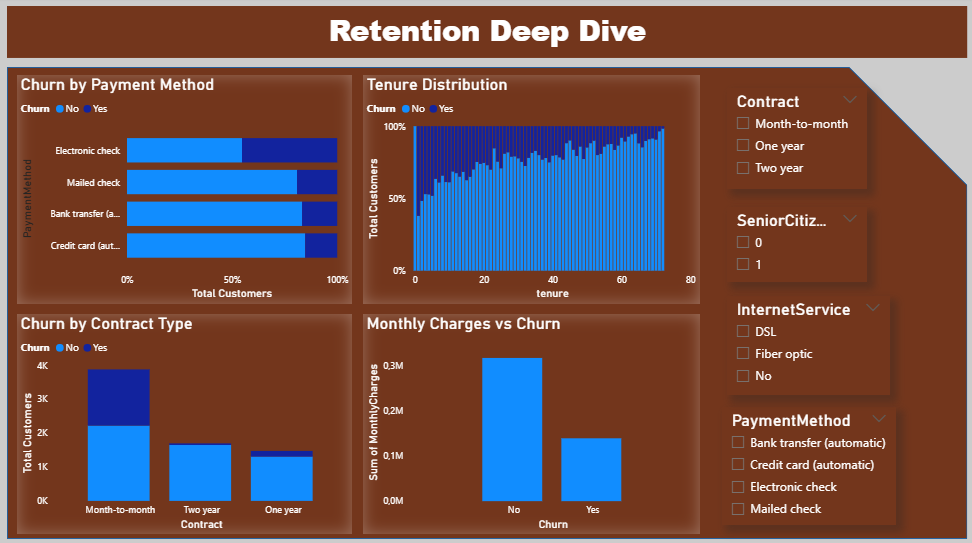

This screenshot's page, from the dashboard's own definition file:
{"tool":"powerbi","page":{"name":"Retention Deep Dive","canvas":[1280,720],"ordinal":1},"visuals":[{"type":"shape","box":[11.5,92.2,1257.1,617.8],"z":0},{"type":"columnChart","title":"Churn by Contract Type","fields":{"Series":["WA_Fn-UseC_-Telco-Customer-Churn.Churn"],"Category":["WA_Fn-UseC_-Telco-Customer-Churn.Contract"],"Y":["WA_Fn-UseC_-Telco-Customer-Churn.Total Customers"]},"box":[24.5,414.7,439.2,288],"z":1000},{"type":"hundredPercentStackedBarChart","title":"Churn by Payment Method","fields":{"Series":["WA_Fn-UseC_-Telco-Customer-Churn.Churn"],"Y":["WA_Fn-UseC_-Telco-Customer-Churn.Total Customers"],"Category":["WA_Fn-UseC_-Telco-Customer-Churn.PaymentMethod"]},"box":[24.5,102.2,439.2,299.5],"z":2000},{"type":"clusteredColumnChart","title":"Monthly Charges vs Churn","fields":{"Y":["Sum(WA_Fn-UseC_-Telco-Customer-Churn.MonthlyCharges)"],"Category":["WA_Fn-UseC_-Telco-Customer-Churn.Churn"]},"box":[478.1,414.7,440.6,288],"z":3000},{"type":"hundredPercentStackedColumnChart","title":"Tenure Distribution","fields":{"Category":["WA_Fn-UseC_-Telco-Customer-Churn.tenure"],"Series":["WA_Fn-UseC_-Telco-Customer-Churn.Churn"],"Y":["WA_Fn-UseC_-Telco-Customer-Churn.Total Customers"]},"box":[478.1,102.2,440.6,299.5],"z":4000},{"type":"slicer","fields":{"Values":["WA_Fn-UseC_-Telco-Customer-Churn.Contract"]},"box":[954.7,119.5,182.9,132.5],"z":5000},{"type":"slicer","fields":{"Values":["WA_Fn-UseC_-Telco-Customer-Churn.InternetService"]},"box":[954.7,391.7,213.1,129.6],"z":6000},{"type":"slicer","fields":{"Values":["WA_Fn-UseC_-Telco-Customer-Churn.SeniorCitizen"]},"box":[954.7,275,182.9,97.9],"z":7000},{"type":"slicer","fields":{"Values":["WA_Fn-UseC_-Telco-Customer-Churn.PaymentMethod"]},"box":[947.5,537.1,227.5,154.1],"z":8000},{"type":"textbox","box":[11.5,11.5,1257.1,67.7],"z":9000}]}

Visuals, with their boxes in screenshot pixels (x1, y1, x2, y2), scaled from the page's 1280x720 canvas onto the 972x543 screenshot:
shape: 9, 70, 963, 535
"Churn by Contract Type" columnChart: 19, 313, 352, 530
"Churn by Payment Method" hundredPercentStackedBarChart: 19, 77, 352, 303
"Monthly Charges vs Churn" clusteredColumnChart: 363, 313, 698, 530
"Tenure Distribution" hundredPercentStackedColumnChart: 363, 77, 698, 303
slicer - WA_Fn-UseC_-Telco-Customer-Churn.Contract: 725, 90, 864, 190
slicer - WA_Fn-UseC_-Telco-Customer-Churn.InternetService: 725, 295, 887, 393
slicer - WA_Fn-UseC_-Telco-Customer-Churn.SeniorCitizen: 725, 207, 864, 281
slicer - WA_Fn-UseC_-Telco-Customer-Churn.PaymentMethod: 720, 405, 892, 521
textbox: 9, 9, 963, 60
